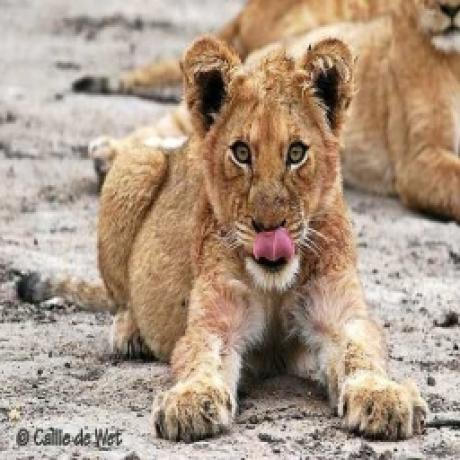Lion: (93, 31, 432, 449), (278, 0, 460, 223)
